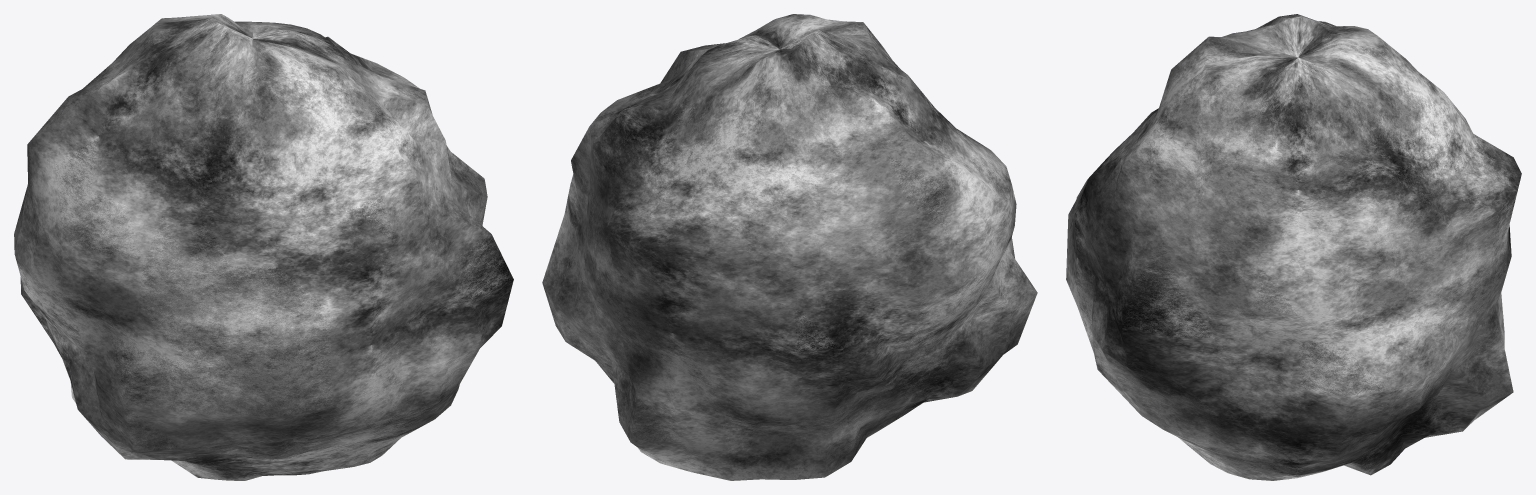
Rendered from Asteroid01b.fbx.
3 views of the same model, side by side, from view 1: azimuth 30°, elevation 25°; view 2: azimuth 150°, elevation 25°; view 3: azimuth 270°, elevation 25° (orthographic). The views are drawn at different scales.
Visible parts, largest first — view 1: Asteroid01b; view 2: Asteroid01b; view 3: Asteroid01b.
Boxes of the visible parts, x1,y1,x2,y2 form: Asteroid01b: (14, 14, 513, 480); Asteroid01b: (542, 14, 1037, 480); Asteroid01b: (1066, 14, 1521, 480).
Bounding box in the file's own units: 1250 × 1238 × 1227.
